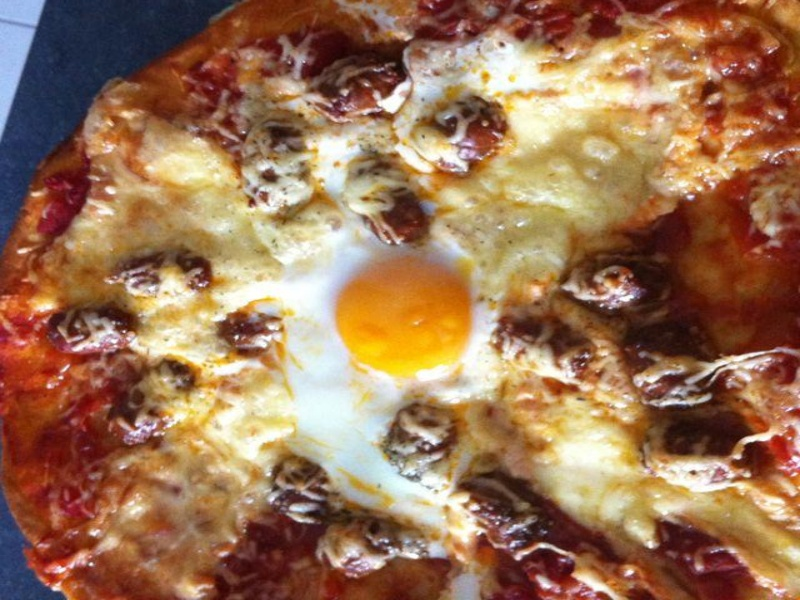oeuf: (306, 249, 486, 400)
